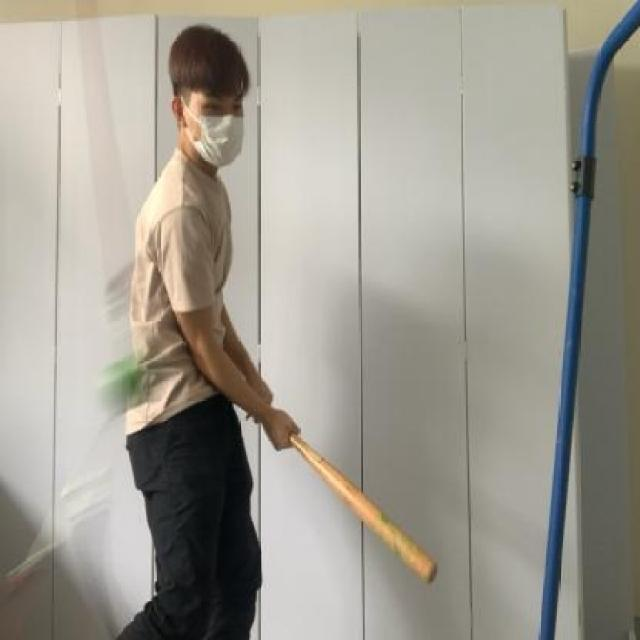baseball: (93, 349, 165, 423)
